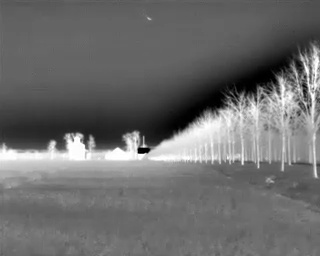BIRD: (145, 14, 153, 23)
